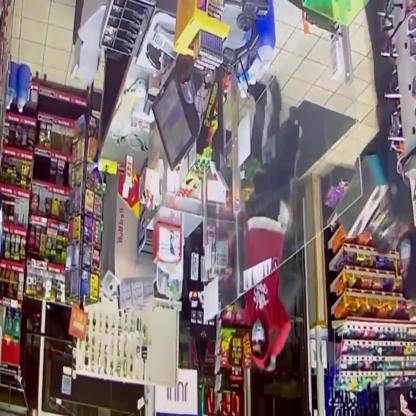Pistol: (232, 275, 248, 330)
